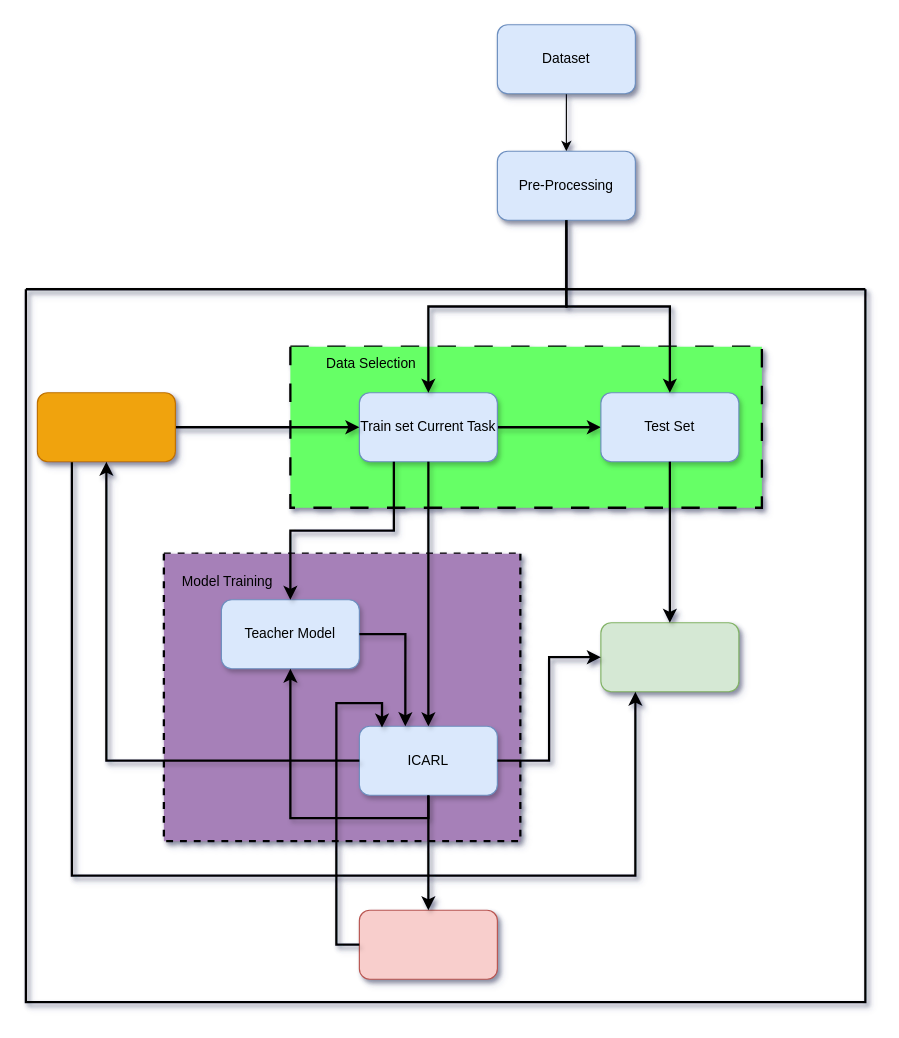
Image size: 899x1038. Some labels were removed from this diagram. The centre of each missing label's shape, as x and y in pixels:
"Evaluation" belongs at [670,658].
"Exemplar Selection" belongs at [107,428].
"FC layer Expanding" belongs at [429,945].
